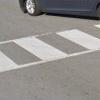Crosswalk: (4, 31, 100, 75)
